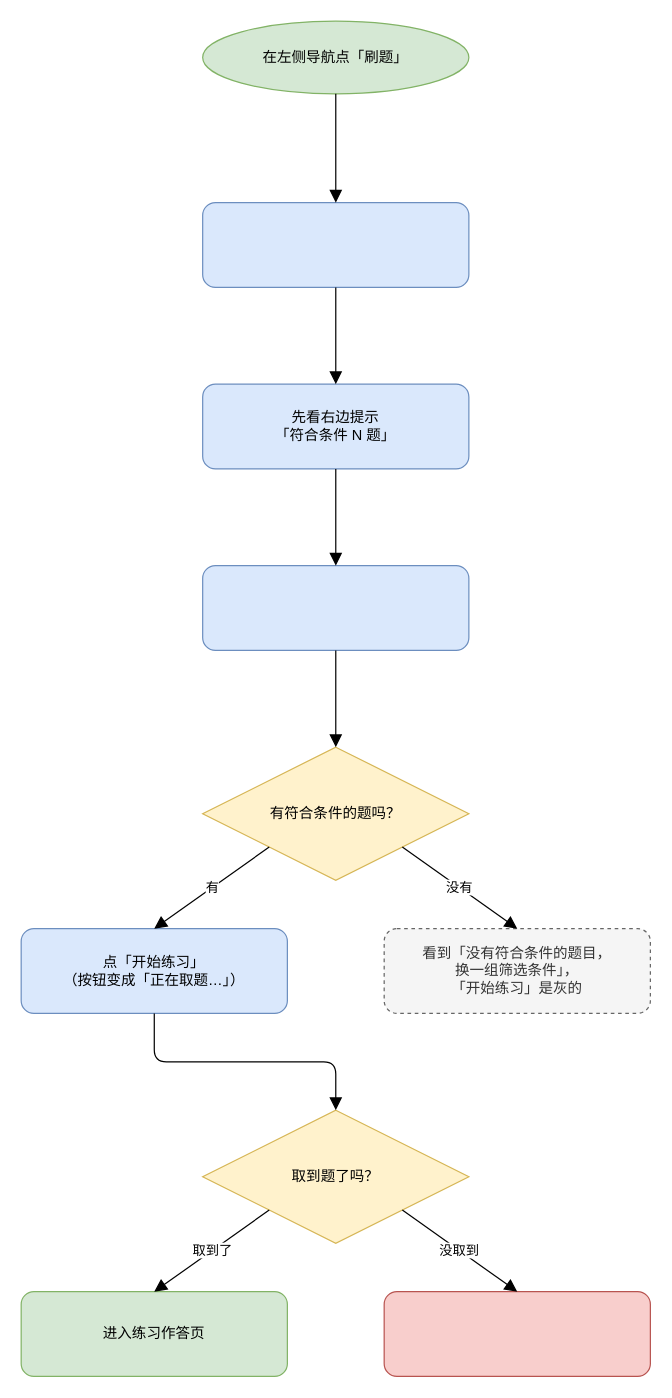
The diagram is 672 pixels wide and 1398 high, and some of its shapes have lost their labels. Each missing label, with the centre of its shape:
"想按简历推荐：在下面一行 「取题方式」里选一份简历" belongs at [335,607].
"挑「不限岗位」「不限分类」 「不限维度」「不限难度」「不限题型」 再选「题量」" belongs at [335,244].
"看到「操作过于频繁，请稍后再试」 等提示，筛选条件会保留" belongs at [516,1333].
